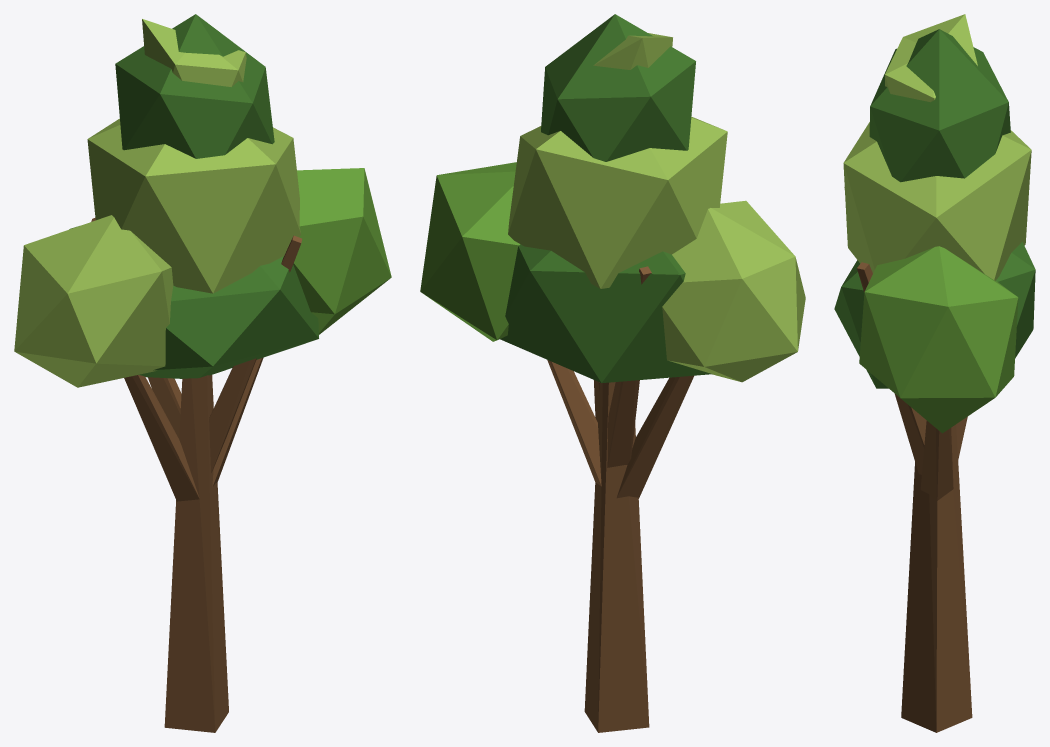
The picture shows the model from 3 angles, left to right: view 1: azimuth 30°, elevation 25°; view 2: azimuth 150°, elevation 25°; view 3: azimuth 270°, elevation 25°; orthographic projection. The views are drawn at different scales.
Parts seen in each view (by area): view 1: WK_InnerKeepTree_CourtyardLinden_Teardrop_LOD2_Compact; view 2: WK_InnerKeepTree_CourtyardLinden_Teardrop_LOD2_Compact; view 3: WK_InnerKeepTree_CourtyardLinden_Teardrop_LOD2_Compact.
Boxes of the visible parts, box(x1,y1,x2,y2) form: WK_InnerKeepTree_CourtyardLinden_Teardrop_LOD2_Compact: box(14, 14, 391, 732); WK_InnerKeepTree_CourtyardLinden_Teardrop_LOD2_Compact: box(420, 14, 805, 732); WK_InnerKeepTree_CourtyardLinden_Teardrop_LOD2_Compact: box(834, 14, 1035, 732).
Size of the model in its own units: 2.76 by 5.2 by 1.38.
